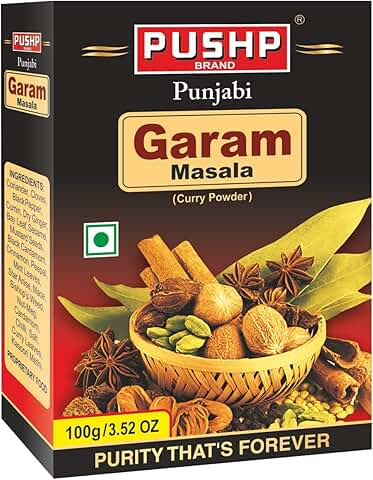Garamasala: (1, 3, 373, 480)
